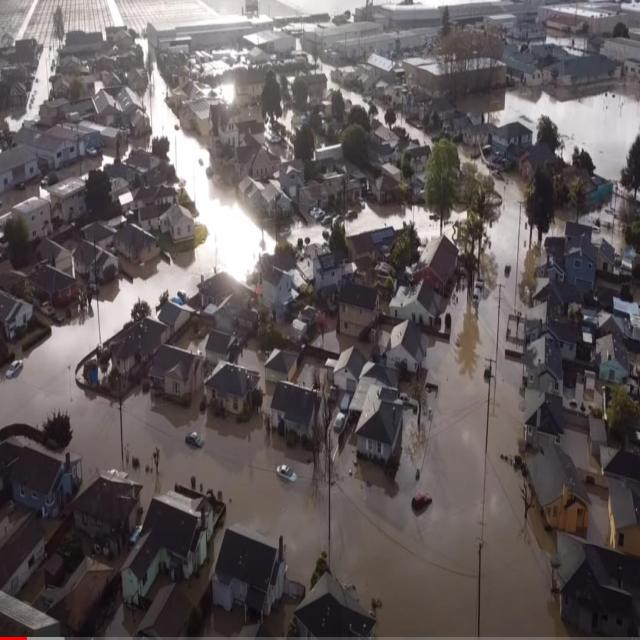flood: (331, 285, 499, 636), (98, 70, 275, 340), (122, 382, 328, 583), (482, 179, 565, 636), (0, 299, 120, 478), (456, 84, 640, 180), (344, 200, 440, 239), (309, 53, 369, 108), (396, 109, 430, 141), (288, 214, 325, 243), (444, 204, 466, 237), (375, 99, 385, 120)
house: (121, 475, 228, 612), (555, 525, 640, 640), (0, 427, 85, 530), (210, 516, 290, 620), (69, 470, 144, 570), (523, 435, 592, 540), (293, 566, 380, 640), (104, 318, 172, 395), (355, 382, 404, 474), (268, 377, 322, 455), (206, 356, 260, 434), (150, 339, 205, 412), (413, 232, 462, 299), (337, 279, 382, 345), (564, 218, 600, 296), (390, 279, 443, 331), (524, 332, 566, 397), (27, 261, 79, 310), (29, 124, 81, 170), (607, 479, 640, 551), (386, 316, 429, 371), (74, 237, 120, 287), (114, 221, 161, 268), (491, 117, 535, 167), (0, 139, 39, 195), (0, 286, 35, 348), (234, 136, 280, 183), (8, 194, 52, 243), (548, 53, 620, 82), (200, 272, 253, 310), (48, 173, 88, 222), (262, 259, 294, 315), (160, 199, 197, 246), (597, 330, 628, 380), (333, 346, 361, 396), (554, 317, 584, 362), (208, 102, 238, 144), (264, 347, 299, 383), (158, 299, 190, 334), (206, 328, 233, 366), (536, 251, 565, 284), (313, 253, 343, 284), (282, 157, 300, 196), (407, 144, 430, 174), (464, 122, 492, 146), (347, 232, 376, 255), (304, 185, 329, 209), (376, 172, 394, 203), (523, 62, 543, 88)
